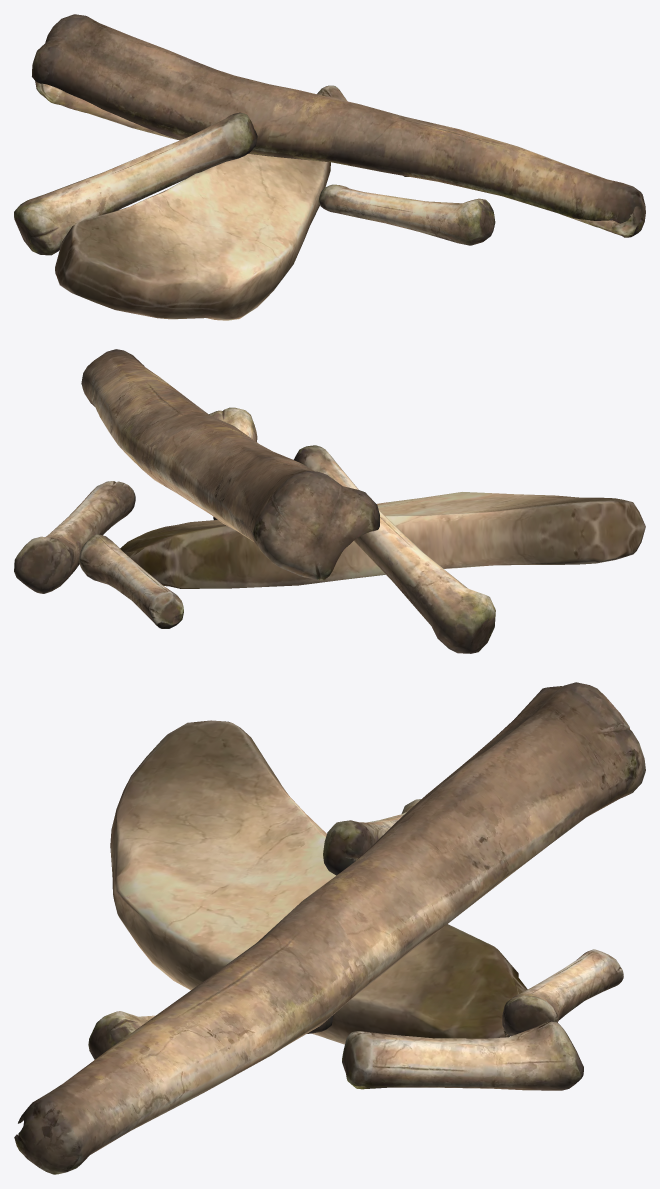
3 renders of one model, top to bottom at view 1: azimuth 30°, elevation 25°; view 2: azimuth 150°, elevation 25°; view 3: azimuth 270°, elevation 25°, orthographic. The views are drawn at different scales.
Visible parts, largest first — view 1: SM_Dragon_Generic_Bones_01_LOD0; view 2: SM_Dragon_Generic_Bones_01_LOD0; view 3: SM_Dragon_Generic_Bones_01_LOD0.
Boxes of the visible parts, x1,y1,x2,y2 form: SM_Dragon_Generic_Bones_01_LOD0: (14,14,645,320); SM_Dragon_Generic_Bones_01_LOD0: (14,349,645,653); SM_Dragon_Generic_Bones_01_LOD0: (14,682,645,1174).
Bounding box in the file's own units: 14.1 × 4.88 × 10.33.
3 materials, 3 textured.
